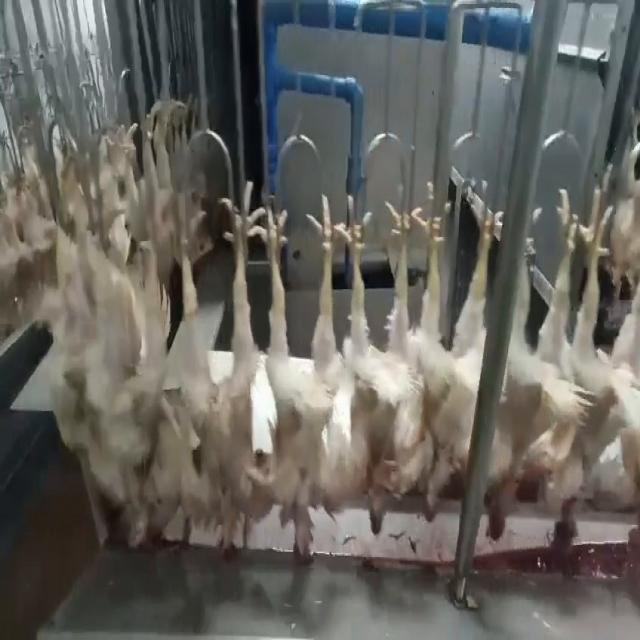chicken: (96, 176, 187, 557), (398, 203, 503, 526), (515, 184, 599, 565), (182, 176, 264, 556), (340, 197, 420, 542), (264, 192, 338, 563), (600, 190, 638, 554)
